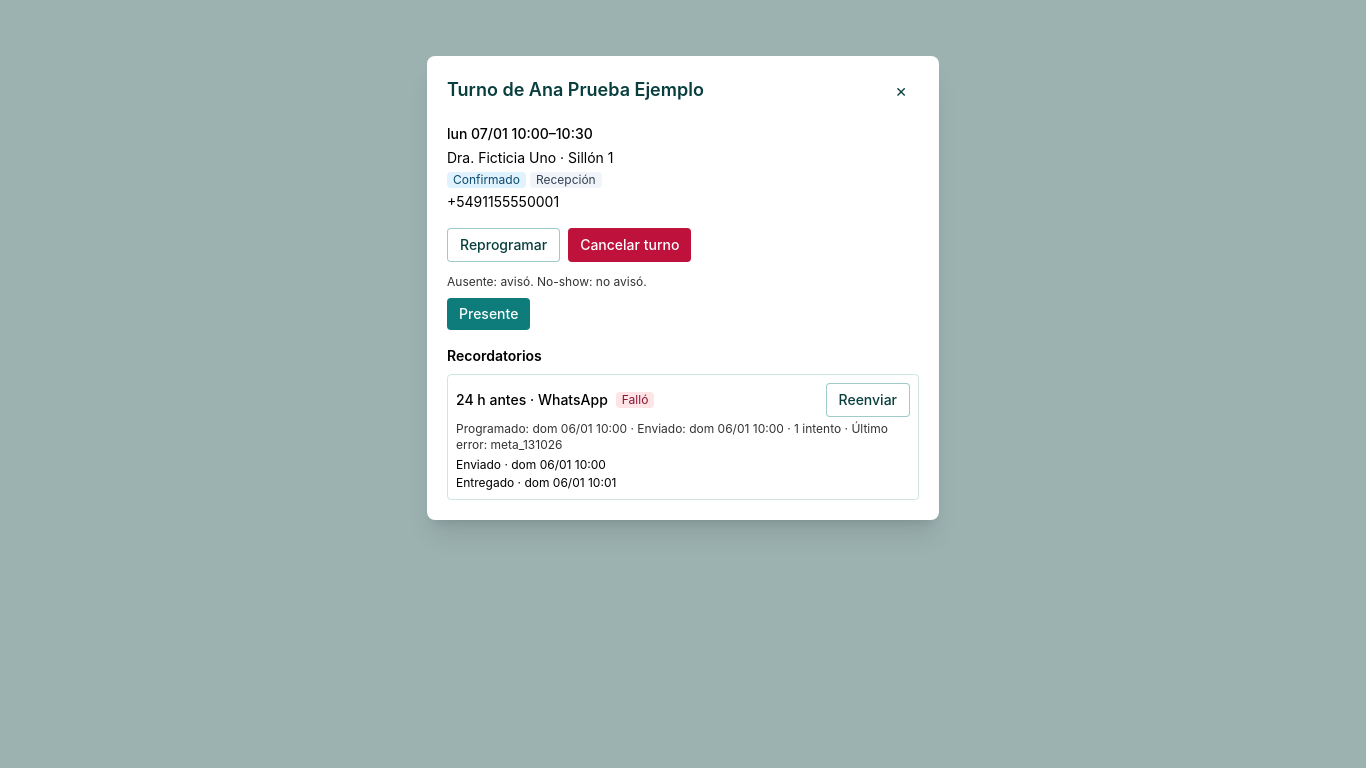
Test: AppointmentDetail › recordatorios (C-11) › 409 resend_cooldown muestra los segundos que faltan
The width and height of the screenshot is (1366, 768).
Step 1. Click the button with aria-label "Reenviar 24 h antes · WhatsApp" → (868, 400), box x1=826 y1=383 x2=910 y2=417
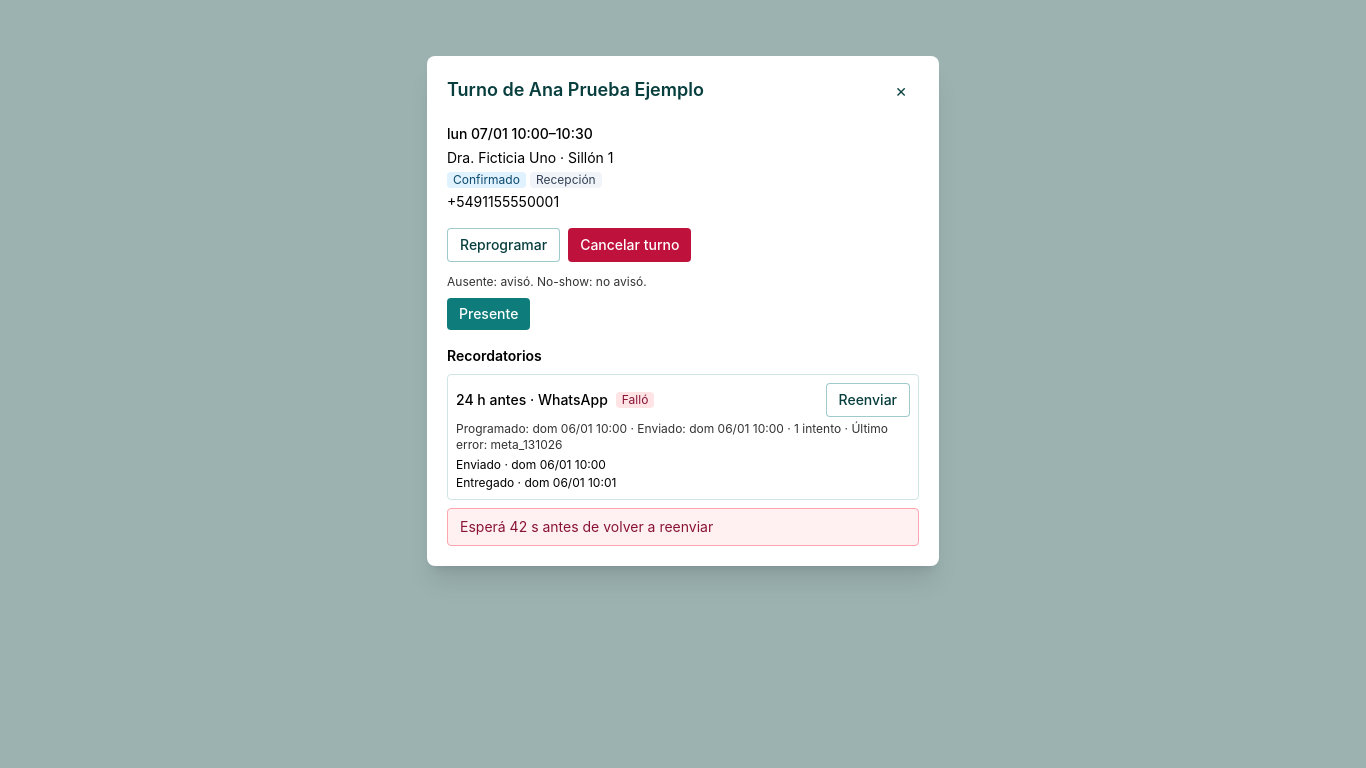
Now the text "Esperá 42 s antes de volver a reenviar" is shown, box x1=447 y1=508 x2=919 y2=546
